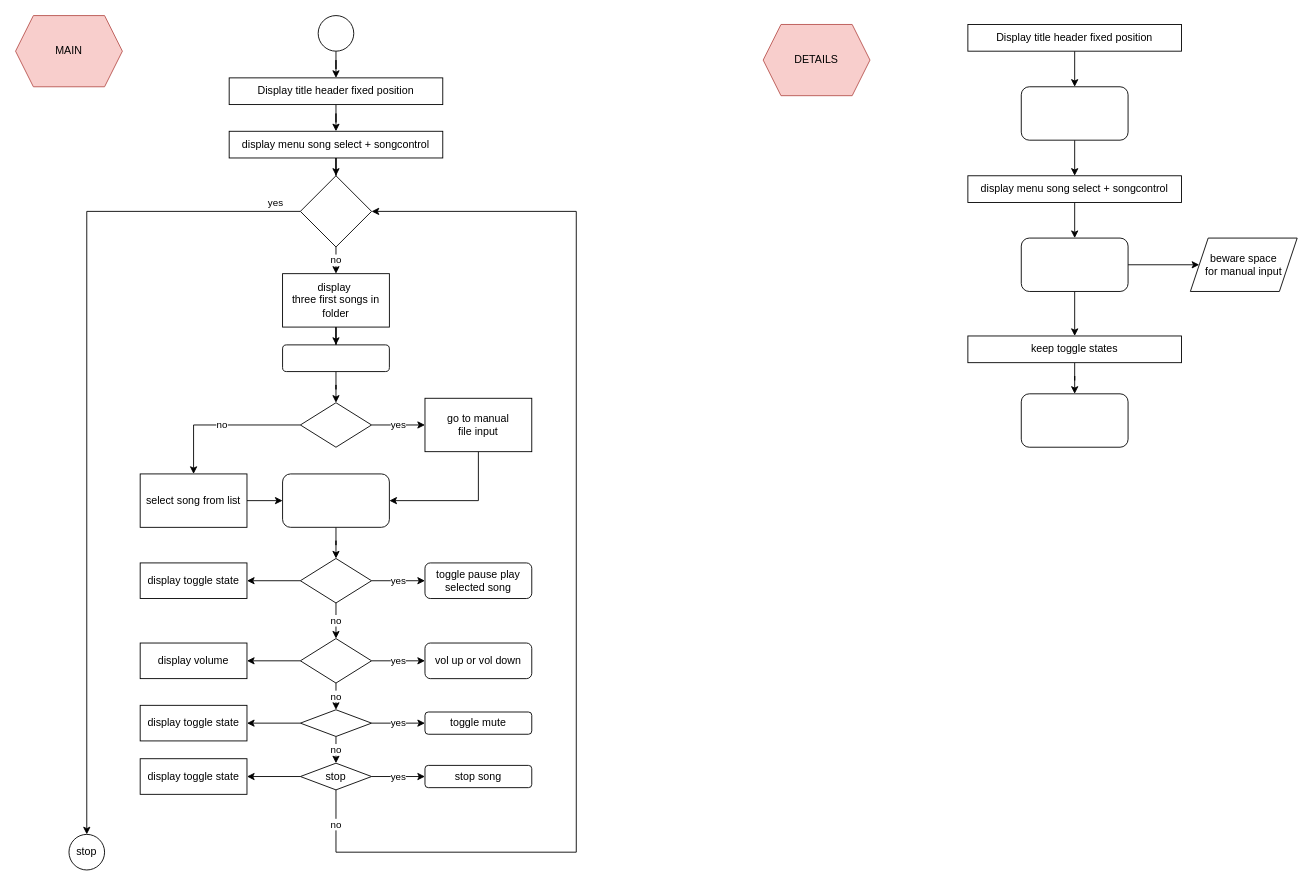
The diagram is 1313 pixels wide and 886 high, and some of its shapes have lost their labels. Each missing label, with the centre of its shape:
adapt menu to reflect toggle states: point (1074, 420)
exitkey chosen?: point (335, 211)
Go to method for rendering the title remember cursor position: point (1074, 113)
manual input: point (335, 424)
mute: point (335, 722)
pauze / play: point (335, 580)
play selected song: point (335, 500)
populate list of 3 number from directory: point (335, 358)
retrieve cursor position to draw menu: point (1074, 264)
Start: point (335, 33)
vol up / down: point (335, 660)
